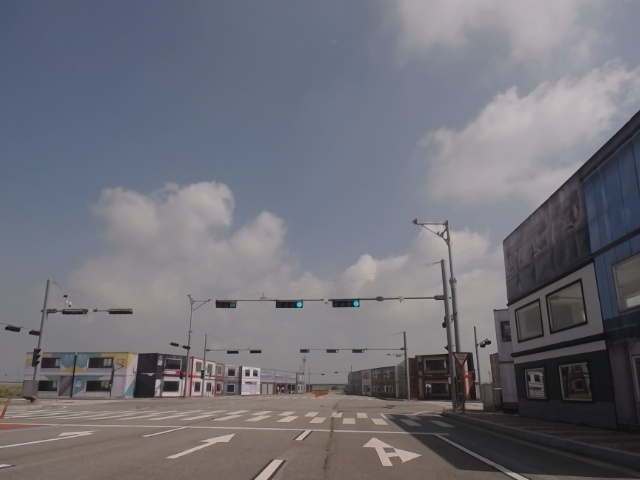straight_green_4: (332, 299, 359, 308), (276, 301, 303, 308)
